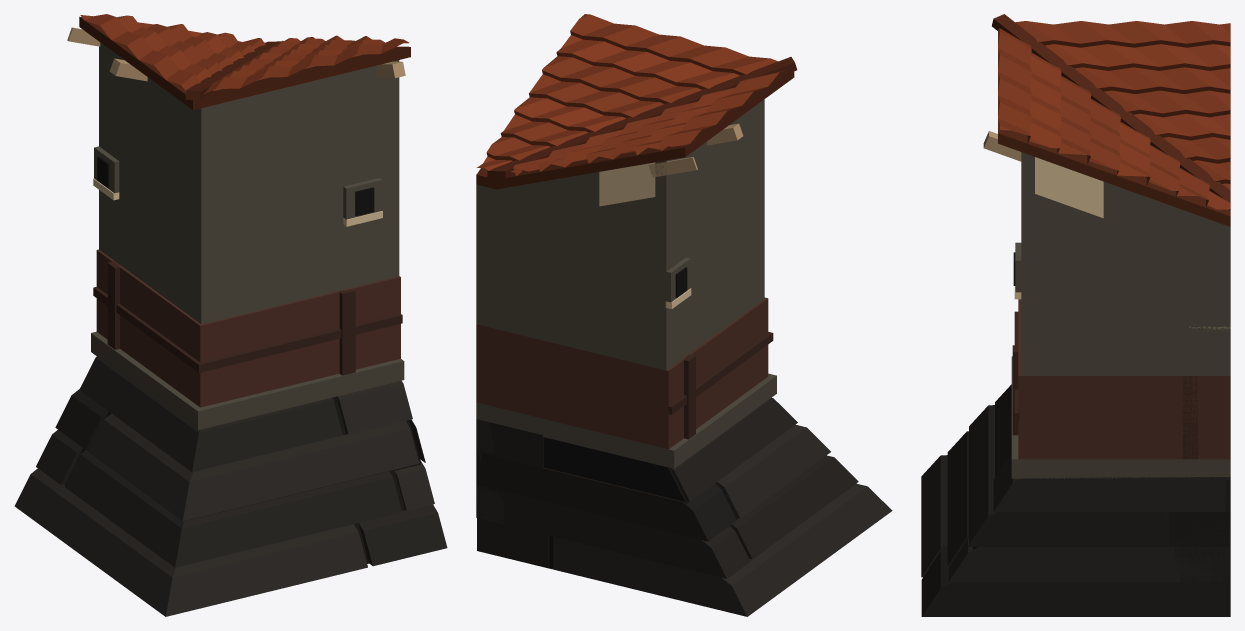
The model's file is VerJoint02.glb.
3 views of the same model, side by side, from view 1: azimuth 30°, elevation 25°; view 2: azimuth 150°, elevation 25°; view 3: azimuth 270°, elevation 25° (orthographic). The views are drawn at different scales.
Parts seen in each view (by area): view 1: VerJoint02_mortar; view 2: VerJoint02_mortar; view 3: VerJoint02_mortar.
Boxes of the visible parts, x1,y1,x2,y2 form: VerJoint02_mortar: (14, 14, 447, 616); VerJoint02_mortar: (476, 14, 892, 616); VerJoint02_mortar: (921, 14, 1230, 616).
Size of the model in its own units: 3.44 by 5.61 by 3.19.
